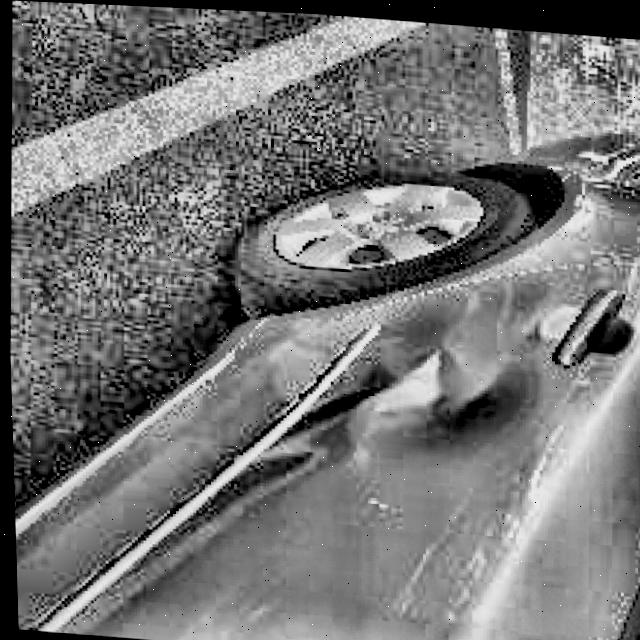door_dent: (248, 299, 530, 480)
